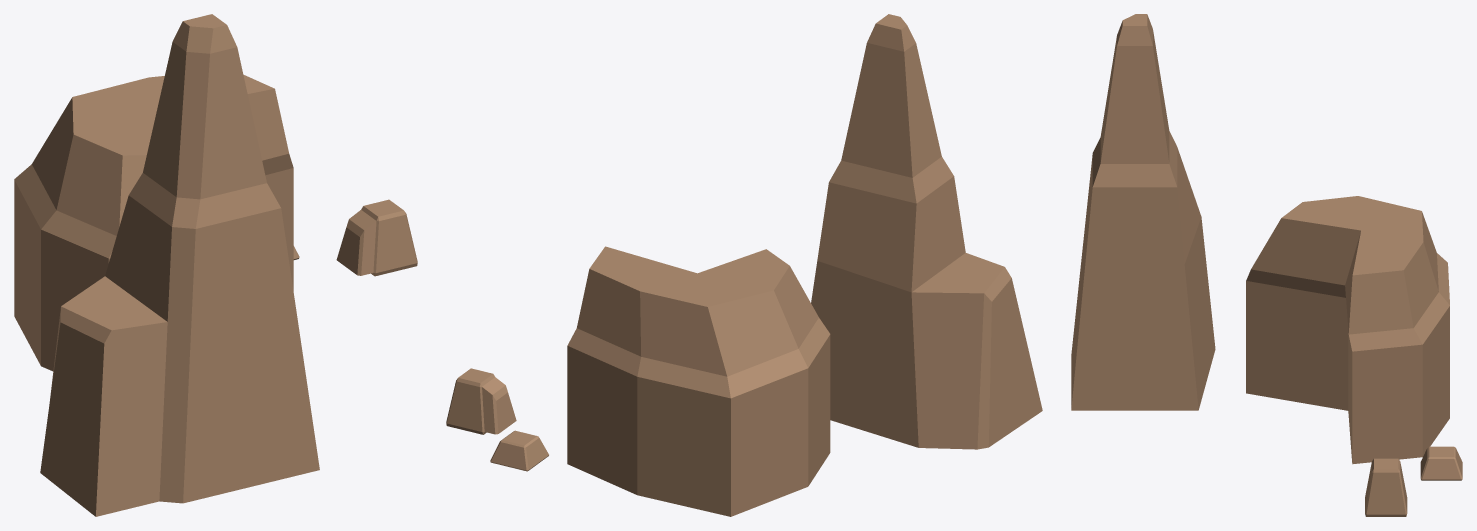
The model's file is small_rock_3.fbx.
The picture shows the model from 3 angles, left to right: view 1: azimuth 30°, elevation 25°; view 2: azimuth 150°, elevation 25°; view 3: azimuth 270°, elevation 25°; orthographic projection. The views are drawn at different scales.
Parts seen in each view (by area): view 1: 2; view 2: 2; view 3: 2.
Boxes of the visible parts, x1,y1,x2,y2 form: 2: [14, 14, 417, 516]; 2: [446, 14, 1042, 516]; 2: [1071, 14, 1462, 516].
Size of the model in its own units: 0.2975 by 0.252 by 0.2483.
